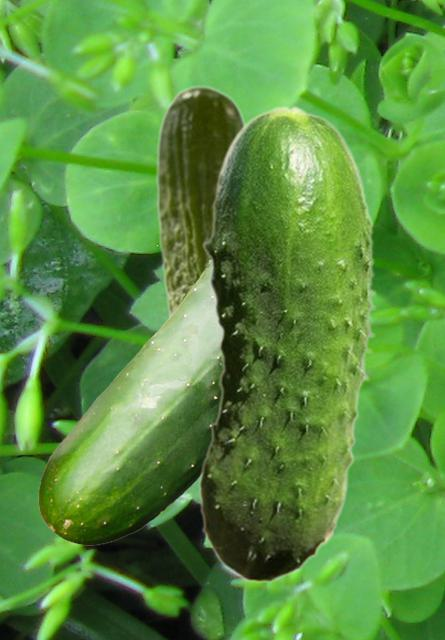cucumber: (198, 104, 376, 582), (38, 259, 220, 544), (155, 84, 246, 321)
